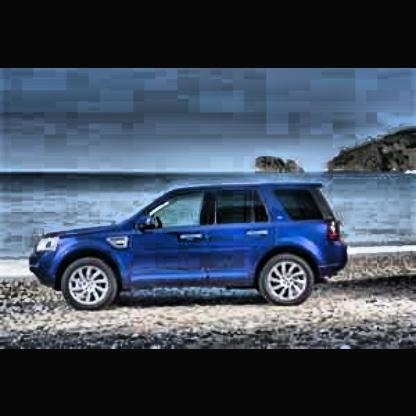Land Rover LR2 SUV 2012: (35, 183, 352, 311)
